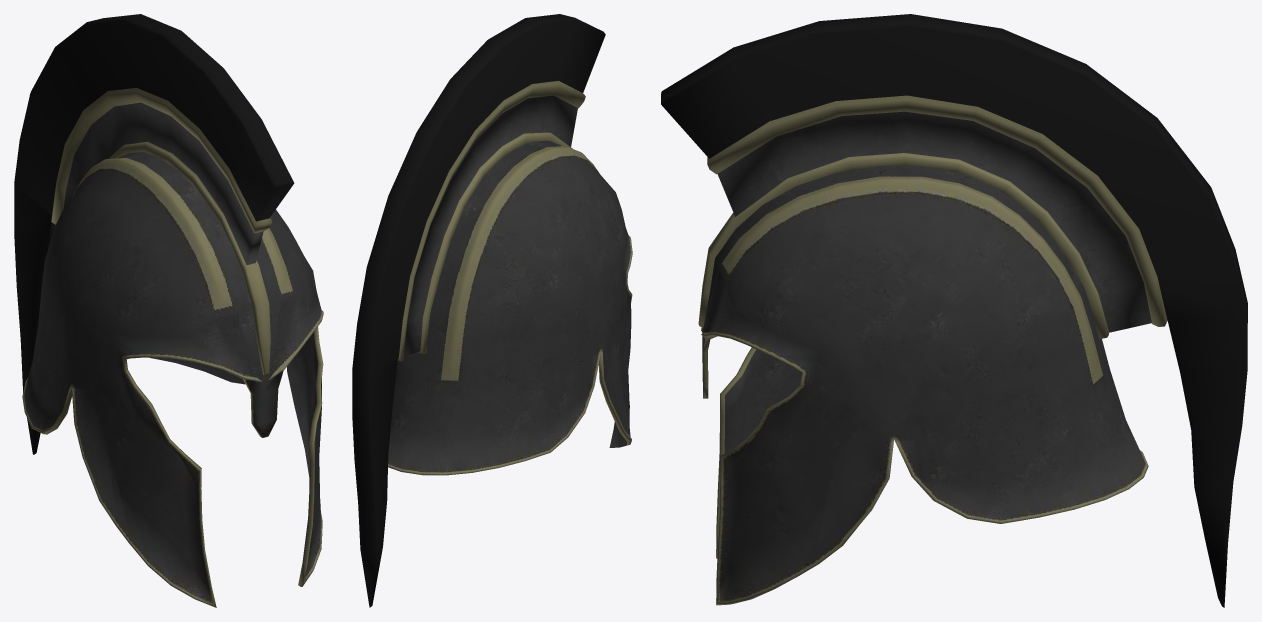
Rendered from snake_statue.glb.
3 views of the same model, side by side, from view 1: azimuth 30°, elevation 25°; view 2: azimuth 150°, elevation 25°; view 3: azimuth 270°, elevation 25° (orthographic). The views are drawn at different scales.
Parts seen in each view (by area): view 1: defaultMaterial (×2); view 2: defaultMaterial (×2); view 3: defaultMaterial (×2).
Part boxes in pixels (box(x1,y1,x2,y2)): defaultMaterial (×2): box(14, 14, 323, 607); defaultMaterial (×2): box(352, 14, 632, 607); defaultMaterial (×2): box(661, 14, 1247, 607).
Size of the model in its own units: 0.8709 by 2 by 1.8.
Materials: 2 (2 with a texture image).
